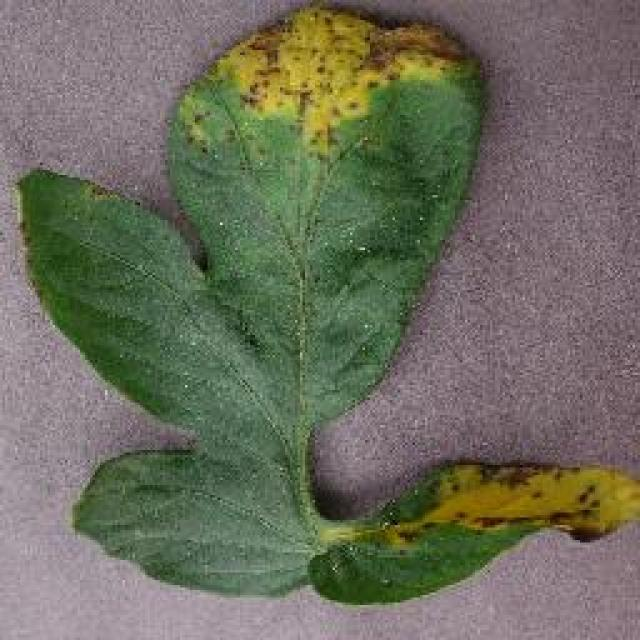bacterial spot: (17, 8, 640, 602)
